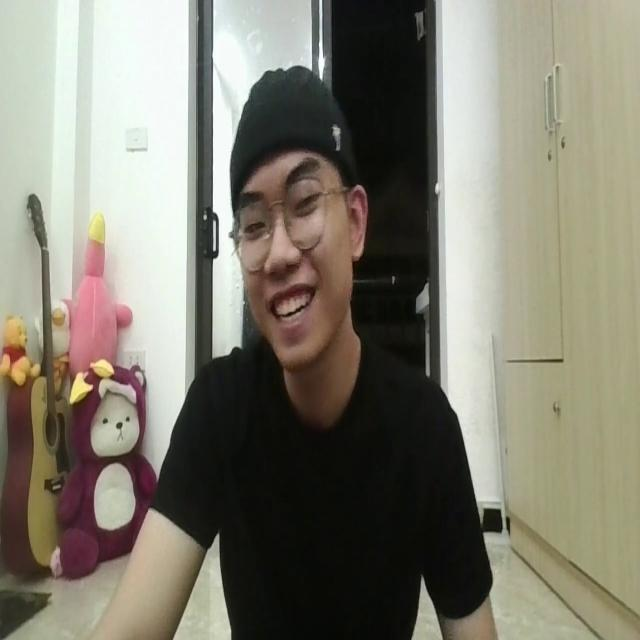student: (102, 62, 498, 640)
